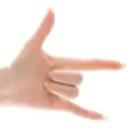back: (12, 9, 126, 121)
